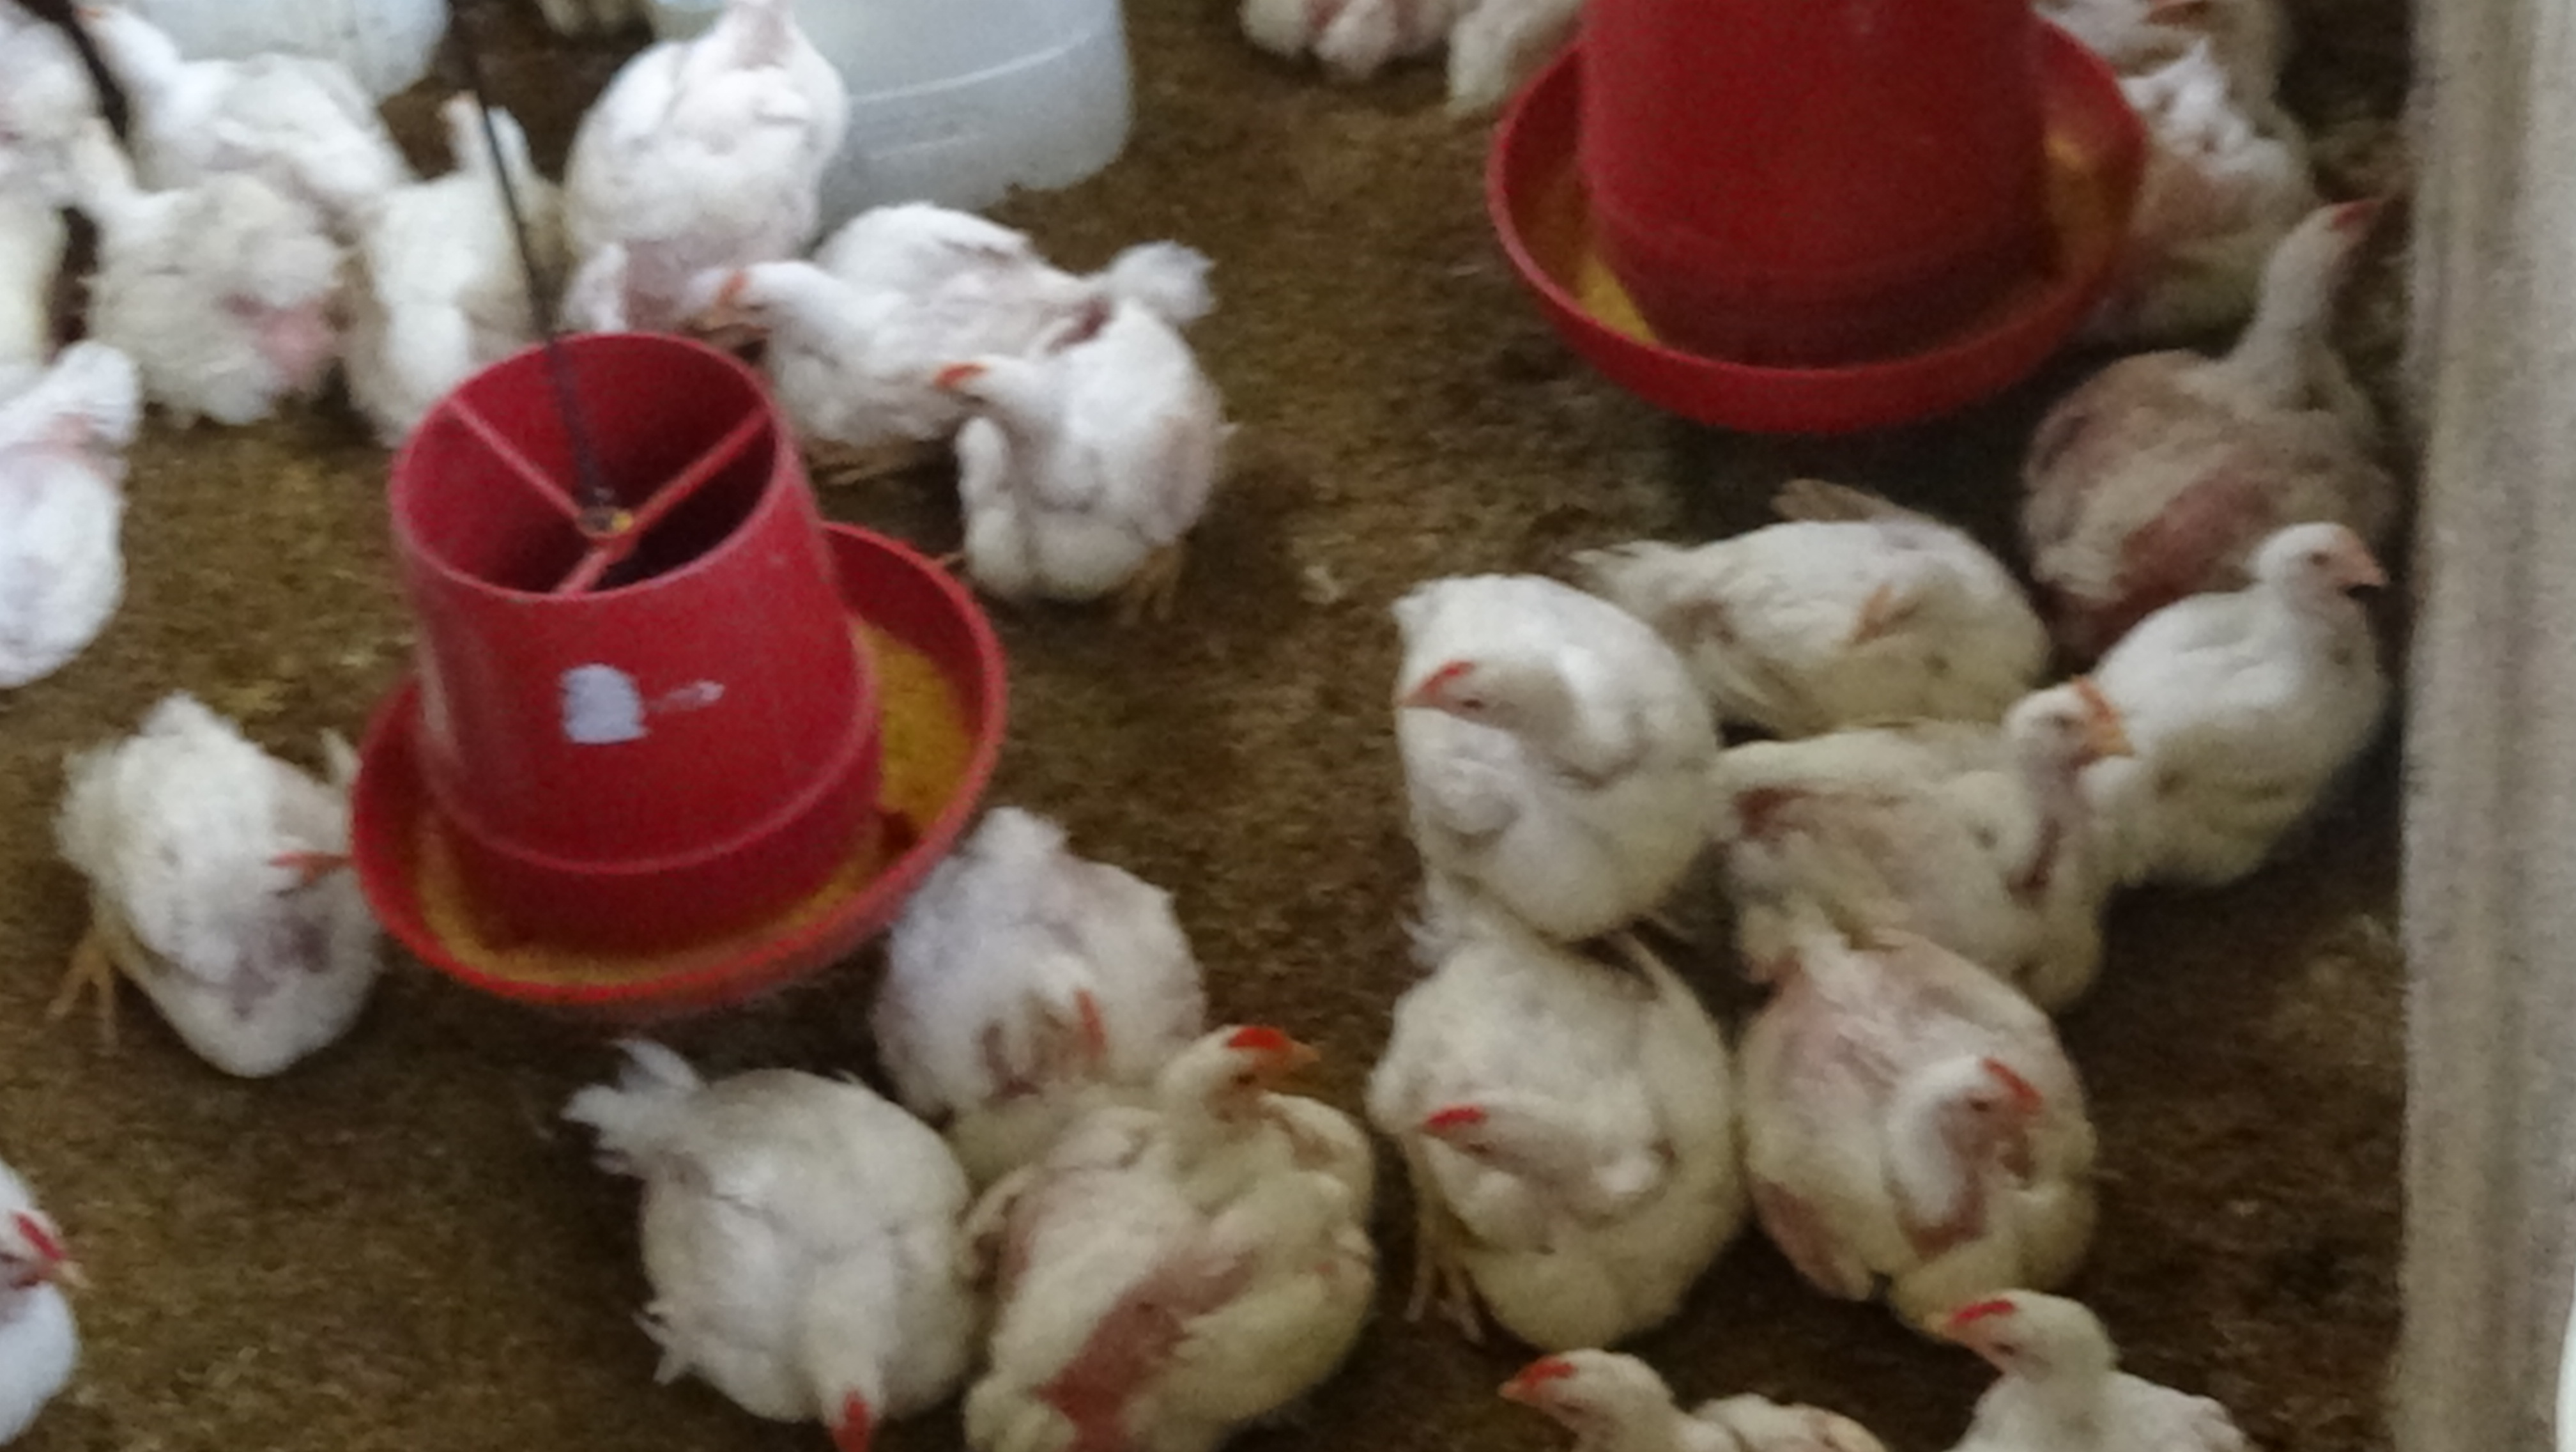Pollos: (27, 699, 456, 1091), (593, 1018, 991, 1429), (1003, 1027, 1394, 1433), (1391, 912, 1748, 1342), (2063, 136, 2408, 563), (1752, 912, 2093, 1300), (1368, 533, 1706, 905), (870, 809, 1235, 1107), (934, 324, 1258, 653), (2116, 510, 2401, 862), (1817, 653, 2199, 908), (69, 182, 391, 478), (547, 30, 824, 345), (1918, 1220, 2272, 1452), (1709, 457, 1990, 699), (706, 225, 934, 494), (0, 1133, 172, 1452), (1493, 1312, 1865, 1452), (2029, 0, 2261, 76)
